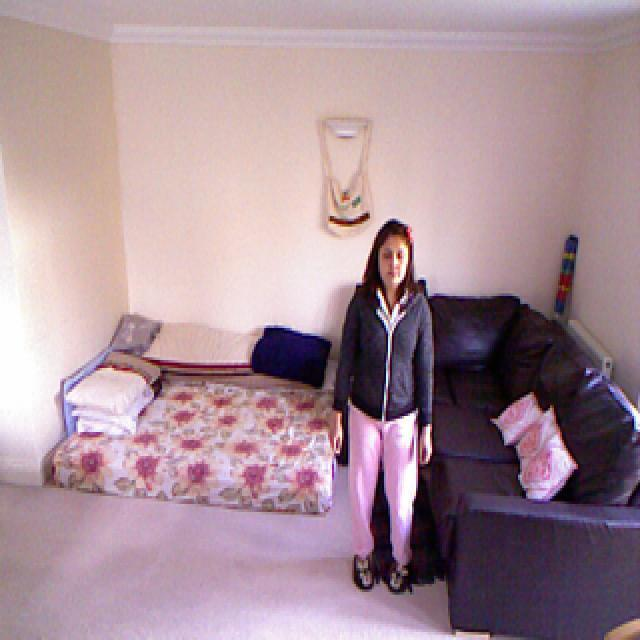walking: (321, 204, 441, 598)
